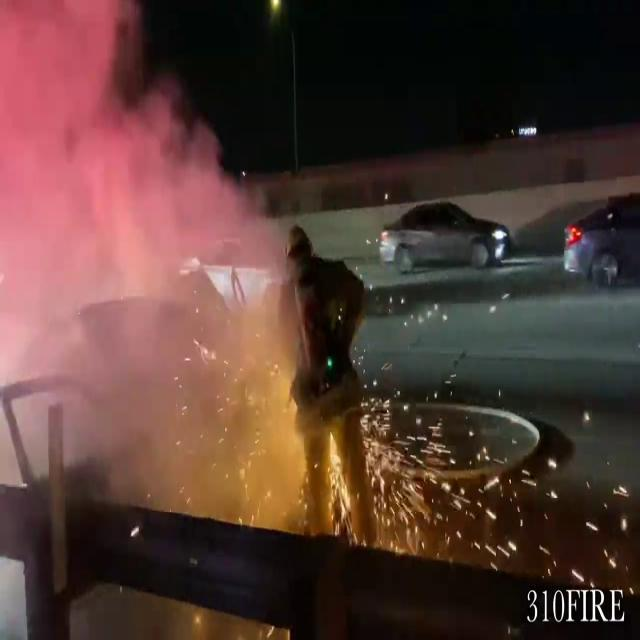Smoke: (0, 1, 337, 528)
